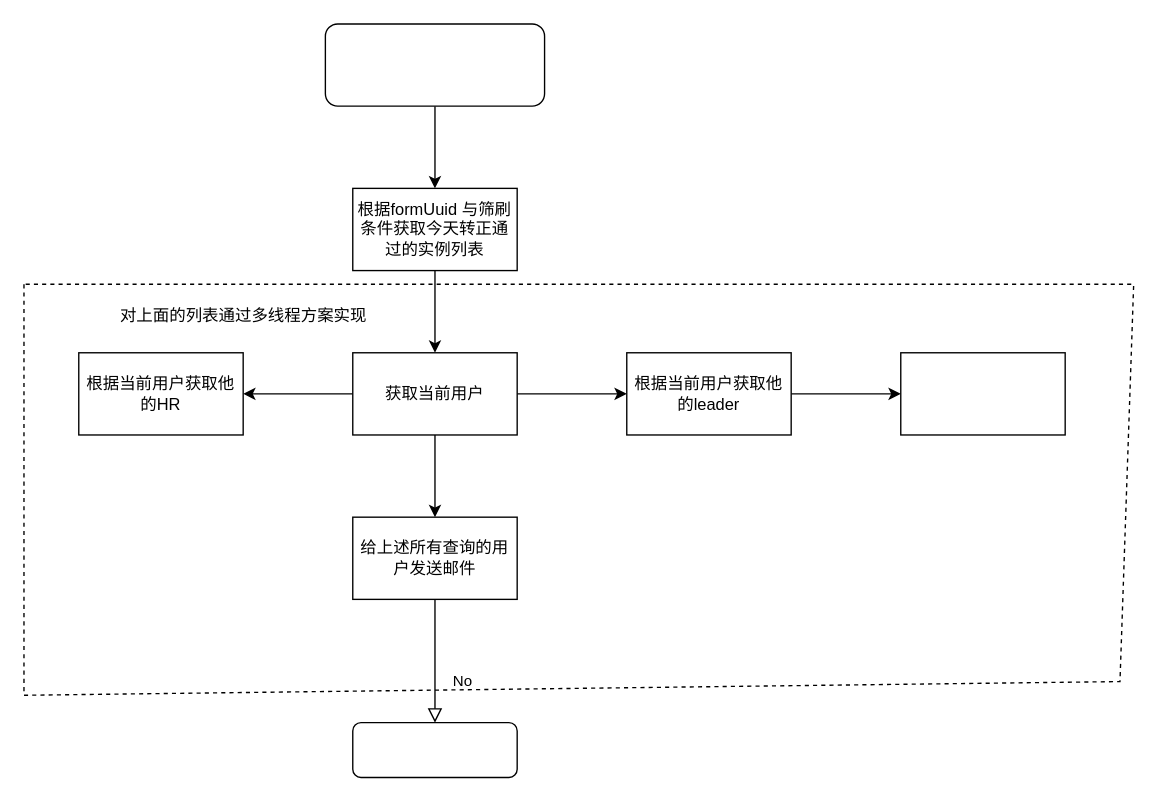
Some shapes in this 1159 by 801 pixel diagram are drawn without their labels. Each missing label, with the centre of its shape:
Repair Lamp: point 434,749
根据key和secret获取用户access_token: point 434,64
获取leader 的leader: point 982,393
